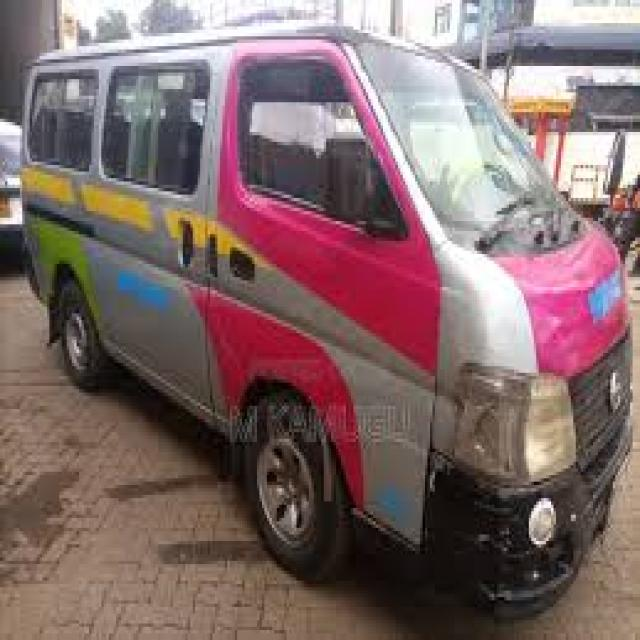matatu: (0, 11, 640, 624)
